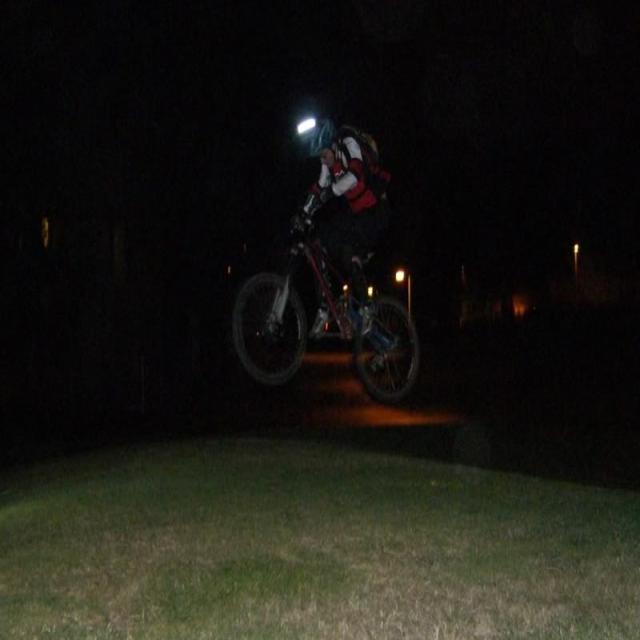Bicycle: (232, 236, 434, 426)
People: (296, 42, 398, 343)
